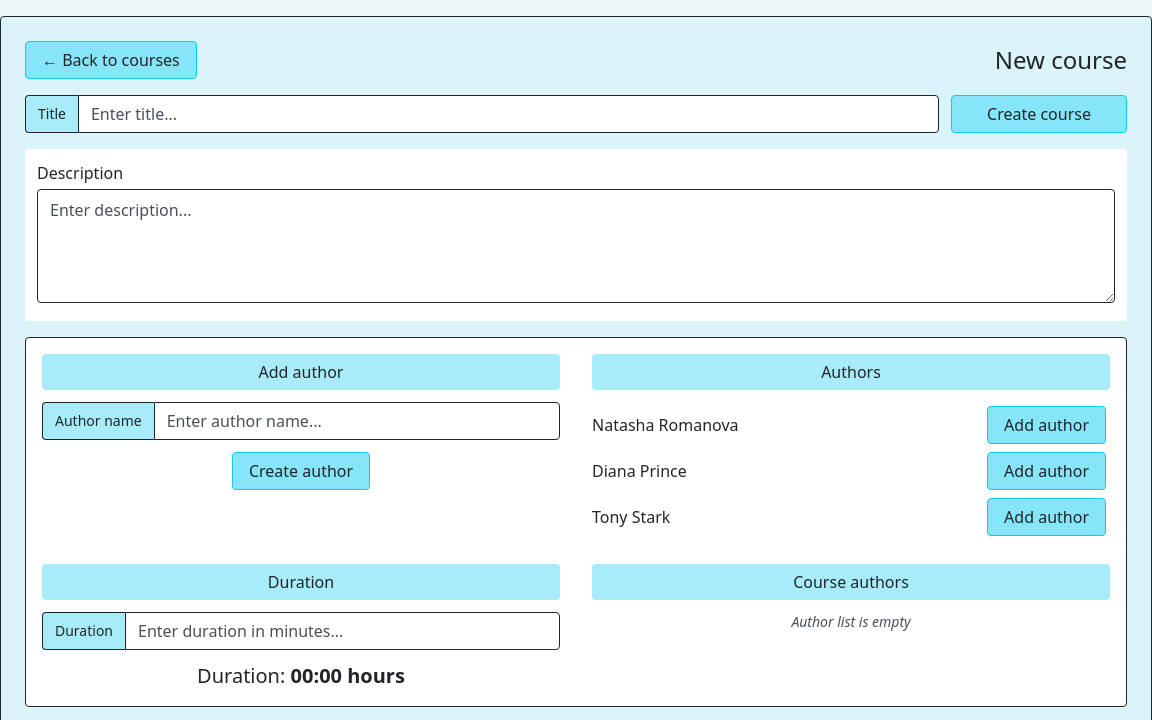
Test: CourseForm › shows the duration as hours while typing
Type "150" into the number field labelled "Duration" at (342, 631), box [125,612,560,650]
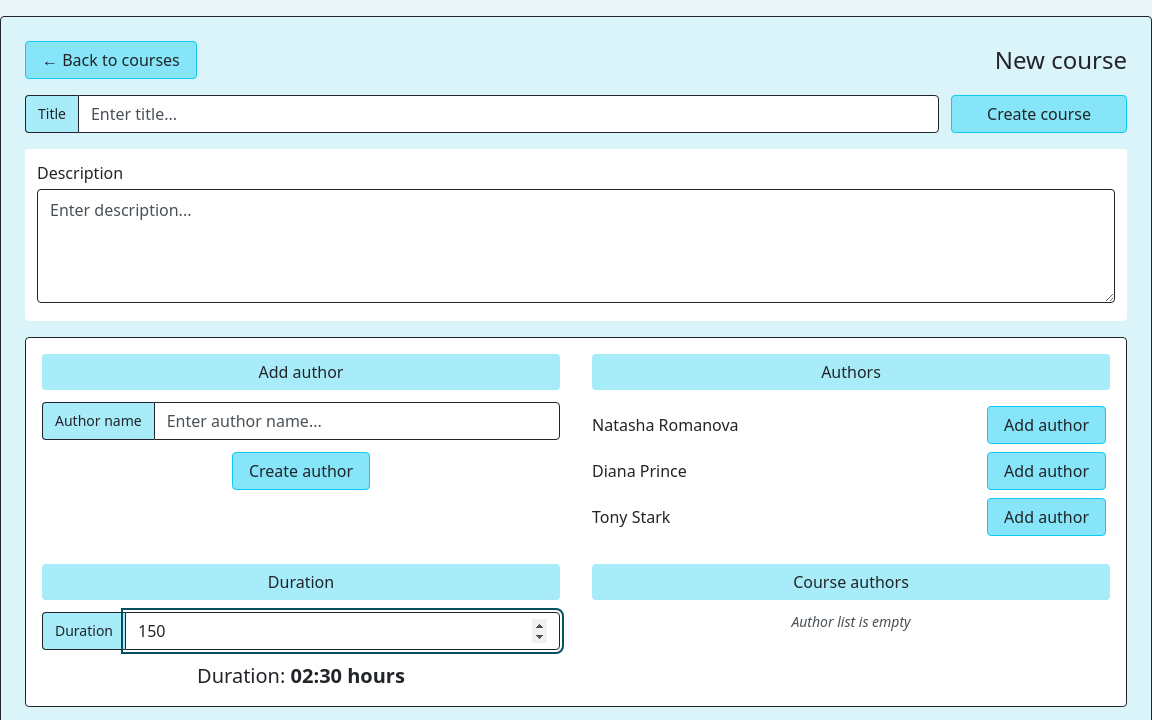
expect the text "02:30 hours" is shown: met, box [290,662,405,689]
